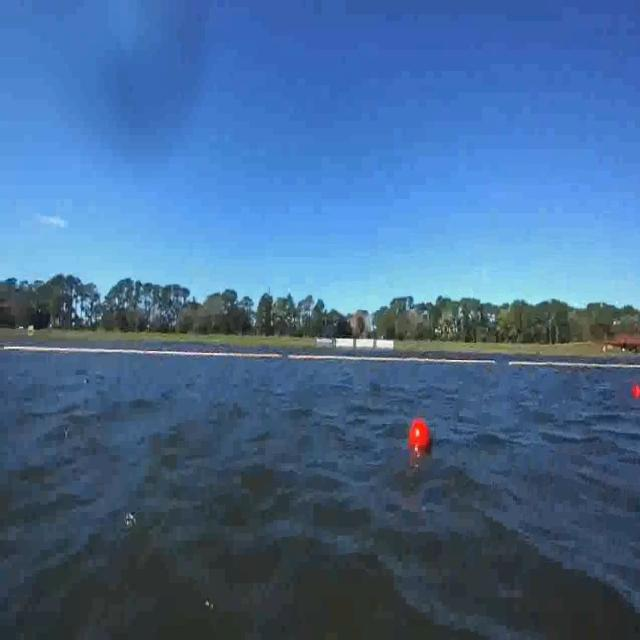red-buoy: (410, 420, 432, 454), (631, 384, 640, 401)
